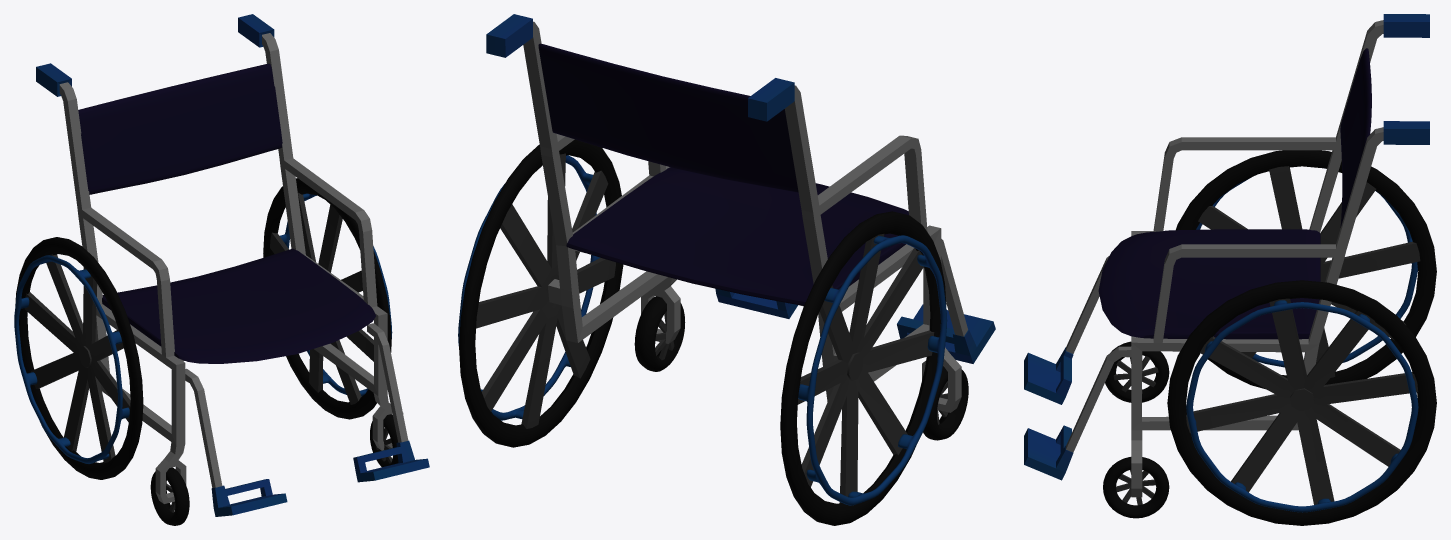
The model's file is Wheelchair.fbx.
3 renders of one model, left to right at view 1: azimuth 30°, elevation 25°; view 2: azimuth 150°, elevation 25°; view 3: azimuth 270°, elevation 25°, orthographic. The views are drawn at different scales.
Parts seen in each view (by area): view 1: Wheelchair; view 2: Wheelchair; view 3: Wheelchair.
Part boxes in pixels (<box>): Wheelchair: <box>14,14,429,525</box>; Wheelchair: <box>458,14,995,525</box>; Wheelchair: <box>1024,14,1436,525</box>.
Size of the model in its own units: 85.26 by 107 by 103.
Materials: 1 (1 with a texture image).
